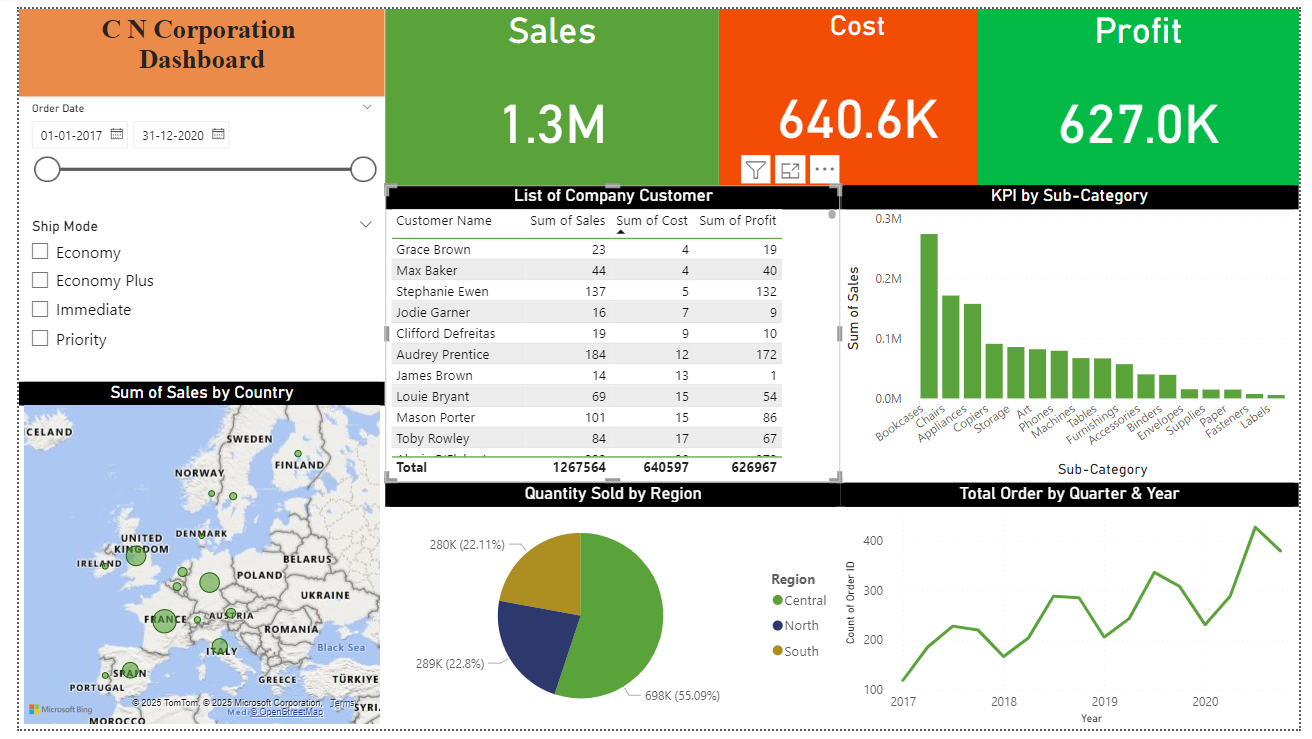

The page's visual inventory and layout, read from the dashboard file:
{"tool":"powerbi","page":{"name":"Page 1","canvas":[1280,720],"ordinal":0},"visuals":[{"type":"card","title":"Sales","fields":{"Values":["List of Orders.Sales"]},"box":[365.6,0,333.8,176.1],"z":0},{"type":"card","title":"Cost","fields":{"Values":["List of Orders.Cost"]},"box":[699.5,0,277.6,176.1],"z":1000},{"type":"card","title":"Profit","fields":{"Values":["List of Orders.Profit"]},"box":[958.7,0,321.6,176.1],"z":2000},{"type":"map","fields":{"Size":["List of Orders.Sales"],"Category":["List of Orders.Country"]},"box":[0,373,365.6,347.3],"z":3000},{"type":"tableEx","title":"List of Company Customer","fields":{"Values":["List of Orders.Customer Name","List of Orders.Sales","List of Orders.Cost","List of Orders.Profit"]},"box":[365.6,176.1,456.1,297.1],"z":4000},{"type":"clusteredColumnChart","title":"KPI by Sub-Category","fields":{"Category":["List of Orders.Sub-Category"],"Y":["List of Orders.Sales"]},"box":[821.7,176.1,458.6,297.1],"z":5000},{"type":"pieChart","title":"Quantity Sold by Region","fields":{"Category":["List of Orders.Region"],"Y":["List of Orders.Sales"]},"box":[365.6,473.2,456.1,247],"z":6000},{"type":"lineChart","title":"Total  Order by Quarter & Year","fields":{"Category":["List of Orders.Order Date.Variation.Date Hierarchy.Year","List of Orders.Order Date.Variation.Date Hierarchy.Quarter"],"Y":["List of Orders.Order ID"]},"box":[821.7,473.2,458.6,247],"z":7000},{"type":"textbox","box":[0,0,365.6,88],"z":8000},{"type":"slicer","fields":{"Values":["List of Orders.Ship Mode"]},"box":[0,204.2,365.6,168.8],"z":9000},{"type":"slicer","fields":{"Values":["List of Orders.Order Date"]},"box":[0,88,365.6,102.7],"z":10000}]}

Visuals, with their boxes in screenshot pixels (x1, y1, x2, y2), scaled from the page's 1280x720 canvas onto the 1312x739 screenshot:
"Sales" card: locate(375, 0, 717, 181)
"Cost" card: locate(717, 0, 1002, 181)
"Profit" card: locate(983, 0, 1311, 181)
map - List of Orders.Sales x List of Orders.Country: locate(0, 383, 375, 738)
"List of Company Customer" tableEx: locate(375, 181, 842, 486)
"KPI by Sub-Category" clusteredColumnChart: locate(842, 181, 1311, 486)
"Quantity Sold by Region" pieChart: locate(375, 486, 842, 738)
"Total  Order by Quarter & Year" lineChart: locate(842, 486, 1311, 738)
textbox: locate(0, 0, 375, 90)
slicer - List of Orders.Ship Mode: locate(0, 210, 375, 383)
slicer - List of Orders.Order Date: locate(0, 90, 375, 196)
